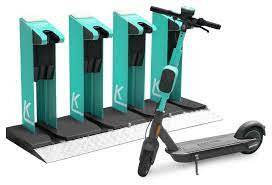kick_board: (137, 4, 264, 174)
kick_body: (179, 133, 237, 159)
kick_handler: (150, 4, 222, 34)
kick_wheel: (238, 121, 266, 156), (138, 140, 159, 177)
